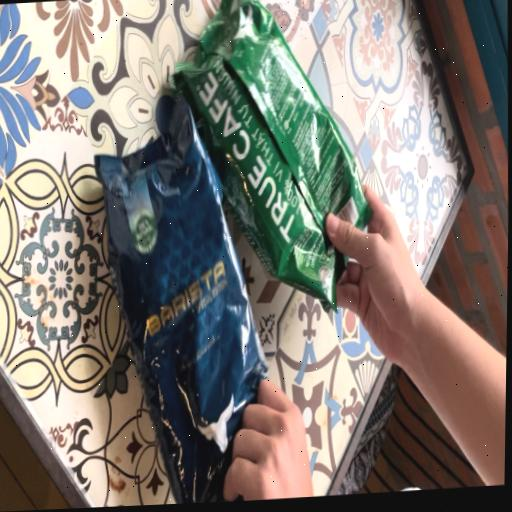cafe_hat: (95, 98, 266, 504)
cafe_xay: (169, 0, 370, 307)
